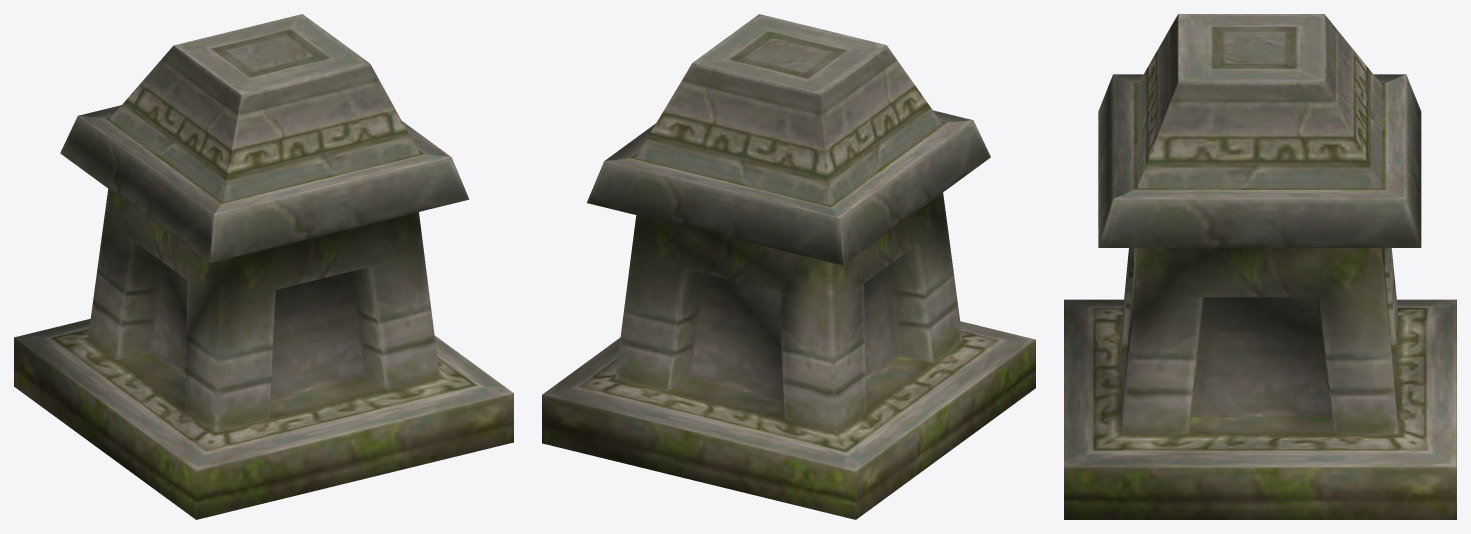
The model's file is shideng_xy_40.FBX.
3 renders of one model, left to right at view 1: azimuth 30°, elevation 25°; view 2: azimuth 150°, elevation 25°; view 3: azimuth 270°, elevation 25°, orthographic. The views are drawn at different scales.
Parts seen in each view (by area): view 1: shideng_xy_40; view 2: shideng_xy_40; view 3: shideng_xy_40.
Part boxes in pixels (x1=…): shideng_xy_40: x1=14, y1=14, x2=513, y2=519; shideng_xy_40: x1=542, y1=14, x2=1035, y2=519; shideng_xy_40: x1=1064, y1=14, x2=1456, y2=519.
Size of what is drawn, in the model's own units: 221 by 241 by 219.
